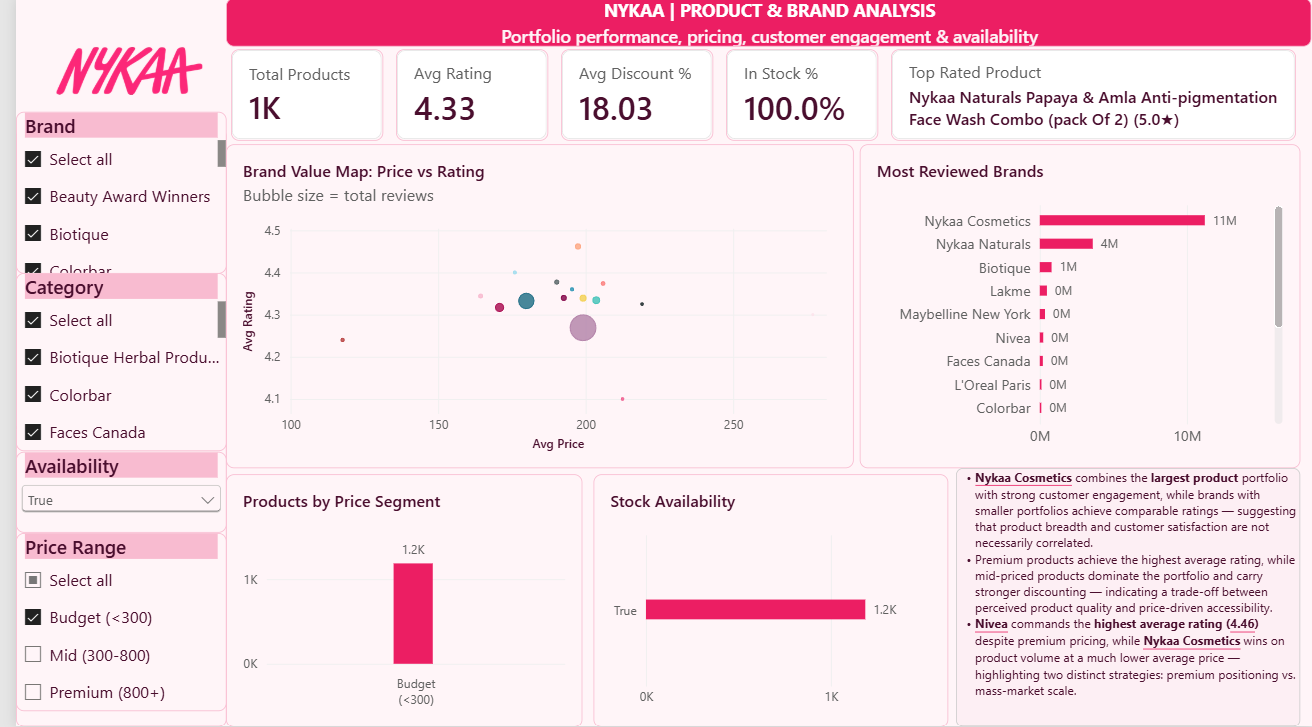

The page's visual inventory and layout, read from the dashboard file:
{"tool":"powerbi","page":{"name":"Page 1","canvas":[1280,720],"ordinal":0},"visuals":[{"type":"shape","box":[0,128,208,592],"z":0},{"type":"slicer","fields":{"Values":["nykaa_cleaned.brand_name"]},"box":[0,112,208,160],"z":1000},{"type":"slicer","fields":{"Values":["nykaa_cleaned.listing_page_name"]},"box":[0,272,208,176],"z":2000},{"type":"slicer","fields":{"Values":["nykaa_cleaned.in_stock"]},"box":[0,448,208,80],"z":3000},{"type":"slicer","fields":{"Values":["nykaa_cleaned.price_band"]},"box":[0,528,208,176],"z":4000},{"type":"cardVisual","fields":{"Data":["nykaa_cleaned.Total Products"]},"box":[212,50,150,90],"z":5000},{"type":"cardVisual","fields":{"Data":["nykaa_cleaned.Avg Rating"]},"box":[375,50,150,90],"z":6000},{"type":"cardVisual","fields":{"Data":["nykaa_cleaned.Avg Discount %"]},"box":[538,50,150,90],"z":7000},{"type":"cardVisual","fields":{"Data":["nykaa_cleaned.In Stock %"]},"box":[701,50,150,90],"z":8000},{"type":"cardVisual","fields":{"Data":["nykaa_cleaned.Top Rated Product"]},"box":[864,50,400,90],"z":9000},{"type":"scatterChart","title":"Brand Value Map: Price vs Rating","fields":{"Series":["nykaa_cleaned.brand_name"],"Size":["nykaa_cleaned.Total Reviews"],"X":["nykaa_cleaned.Avg Price"],"Y":["nykaa_cleaned.Avg Rating"]},"box":[208,144,620,320],"z":10000},{"type":"clusteredBarChart","title":"Most Reviewed Brands","fields":{"Category":["nykaa_cleaned.brand_name"],"Y":["nykaa_cleaned.Total Reviews"]},"box":[833,144,435,320],"z":11000},{"type":"clusteredColumnChart","title":"Products by Price Segment","fields":{"Category":["nykaa_cleaned.price_band"],"Y":["CountNonNull(nykaa_cleaned.product_id)"]},"box":[208,470,352,250],"z":12000},{"type":"clusteredBarChart","title":"Stock Availability","fields":{"Category":["nykaa_cleaned.in_stock"],"Y":["CountNonNull(nykaa_cleaned.product_id)"]},"box":[570,470,350,250],"z":13000},{"type":"textbox","box":[928,464,340,256],"z":14000},{"type":"textbox","title":"NYKAA | PRODUCT & BRAND ANALYSIS","box":[208,0,1072,48],"z":15000},{"type":"image","box":[0,0,224,144],"z":16000}]}

Visuals, with their boxes in screenshot pixels (x1, y1, x2, y2), scaled from the page's 1280x720 canvas onto the 1312x727 screenshot:
shape: x1=0, y1=129, x2=213, y2=726
slicer - nykaa_cleaned.brand_name: x1=0, y1=113, x2=213, y2=275
slicer - nykaa_cleaned.listing_page_name: x1=0, y1=275, x2=213, y2=452
slicer - nykaa_cleaned.in_stock: x1=0, y1=452, x2=213, y2=533
slicer - nykaa_cleaned.price_band: x1=0, y1=533, x2=213, y2=711
cardVisual - nykaa_cleaned.Total Products: x1=217, y1=50, x2=371, y2=141
cardVisual - nykaa_cleaned.Avg Rating: x1=384, y1=50, x2=538, y2=141
cardVisual - nykaa_cleaned.Avg Discount %: x1=551, y1=50, x2=705, y2=141
cardVisual - nykaa_cleaned.In Stock %: x1=719, y1=50, x2=872, y2=141
cardVisual - nykaa_cleaned.Top Rated Product: x1=886, y1=50, x2=1296, y2=141
"Brand Value Map: Price vs Rating" scatterChart: x1=213, y1=145, x2=849, y2=469
"Most Reviewed Brands" clusteredBarChart: x1=854, y1=145, x2=1300, y2=469
"Products by Price Segment" clusteredColumnChart: x1=213, y1=475, x2=574, y2=726
"Stock Availability" clusteredBarChart: x1=584, y1=475, x2=943, y2=726
textbox: x1=951, y1=469, x2=1300, y2=726
"NYKAA | PRODUCT & BRAND ANALYSIS" textbox: x1=213, y1=0, x2=1311, y2=48
image: x1=0, y1=0, x2=230, y2=145
